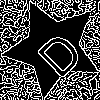D: (28, 23, 86, 81)
